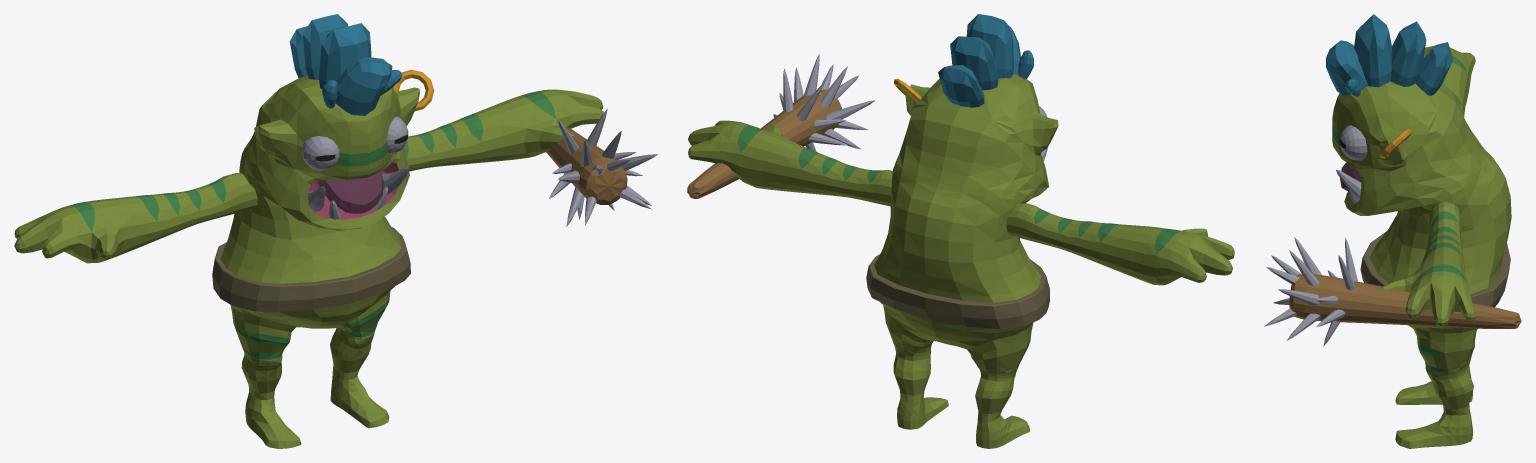
File: enemy_brute.glb
3 views of the same model, side by side, from view 1: azimuth 30°, elevation 25°; view 2: azimuth 150°, elevation 25°; view 3: azimuth 270°, elevation 25° (orthographic). The views are drawn at different scales.
Visible parts, largest first — view 1: SK_Orc.usda; view 2: SK_Orc.usda; view 3: SK_Orc.usda.
Boxes of the visible parts, bbox=[...] form: SK_Orc.usda: bbox=[14, 14, 658, 448]; SK_Orc.usda: bbox=[687, 14, 1234, 448]; SK_Orc.usda: bbox=[1264, 14, 1521, 448].
Size of the model in its own units: 4.68 by 3.21 by 1.87.
1 material, 1 textured.
